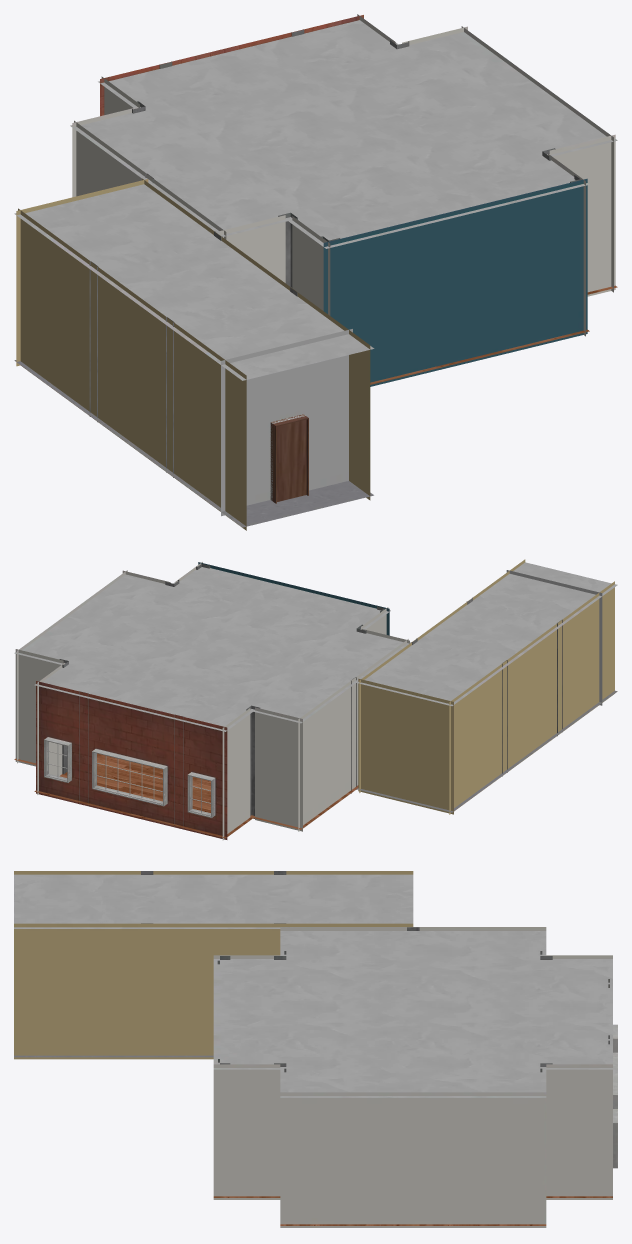
The model's file is room3.glb.
3 views of the same model, one above another, from view 1: azimuth 30°, elevation 25°; view 2: azimuth 150°, elevation 25°; view 3: azimuth 270°, elevation 25° (orthographic). The views are drawn at different scales.
Visible parts, largest first — view 1: ConfRoom_lambert1_0; view 2: ConfRoom_lambert1_0; view 3: ConfRoom_lambert1_0.
Boxes of the visible parts, bbox=[...] form: ConfRoom_lambert1_0: bbox=[14, 14, 617, 530]; ConfRoom_lambert1_0: bbox=[14, 559, 617, 840]; ConfRoom_lambert1_0: bbox=[14, 871, 617, 1227].
Bounding box in the file's own units: 16 × 4.5 × 18.15.
Materials: 1 (1 with a texture image).
